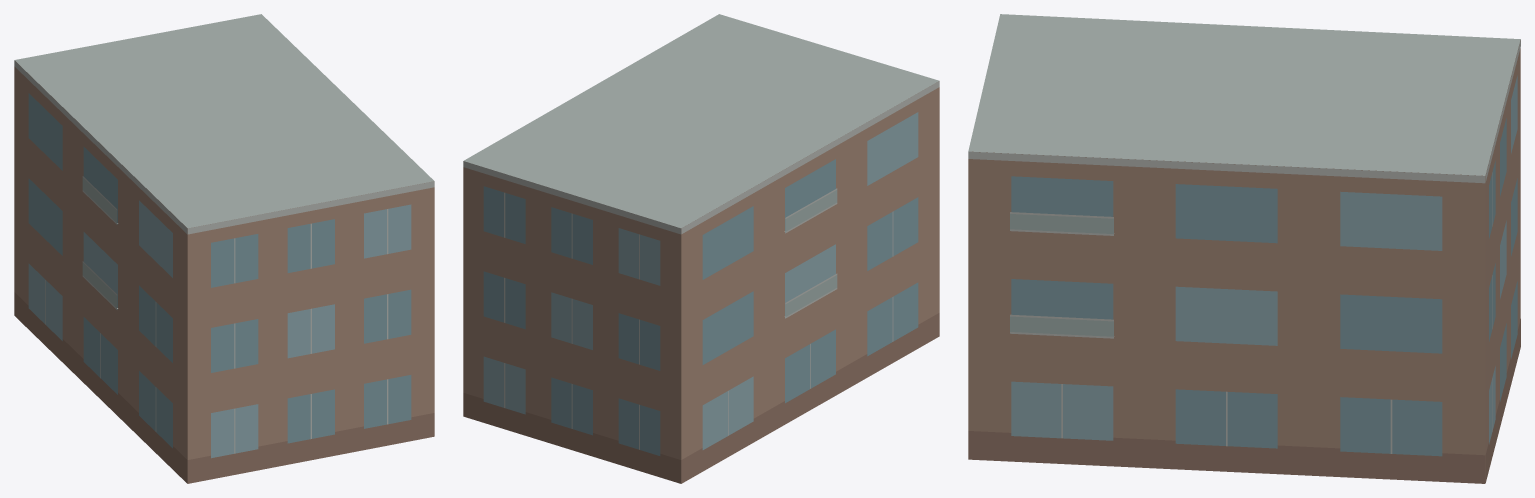
Rendered from survey-upis-32903764.glb.
3 renders of one model, left to right at view 1: azimuth 30°, elevation 25°; view 2: azimuth 150°, elevation 25°; view 3: azimuth 270°, elevation 25°, orthographic. The views are drawn at different scales.
Visible parts, largest first — view 1: survey-upis-32903764.tmp; view 2: survey-upis-32903764.tmp; view 3: survey-upis-32903764.tmp.
Part boxes in pixels (x1,y1,x2,y2): survey-upis-32903764.tmp: [14, 14, 434, 483]; survey-upis-32903764.tmp: [463, 14, 939, 483]; survey-upis-32903764.tmp: [968, 14, 1520, 483].
Size of the model in its own units: 11.45 by 10.15 by 16.51.
